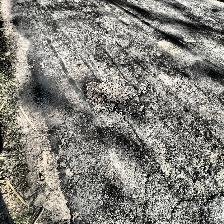pothole: (82, 78, 148, 114)
